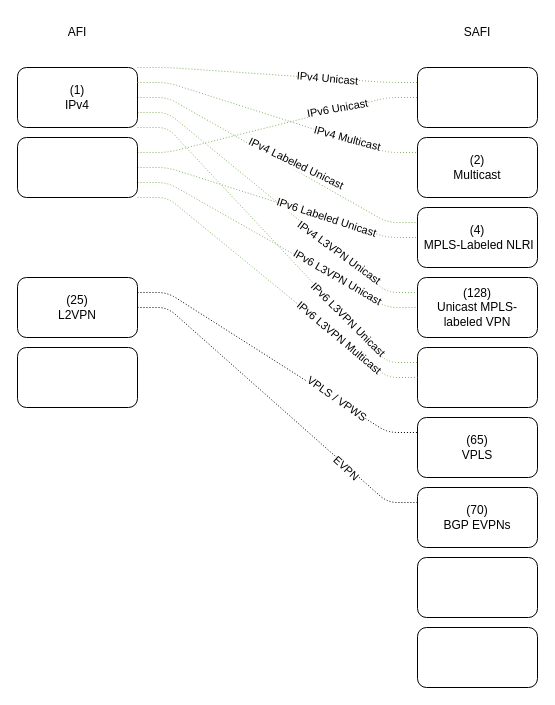
Image size: 555x705. Some labels were removed from this diagram. The centre of each missing label's shape, as x and y in pixels:
(1) Unicast: (x=477, y=97)
(129) Multicast MPLS-labeled VPN: (x=477, y=377)
(2) IPv6: (x=77, y=167)
